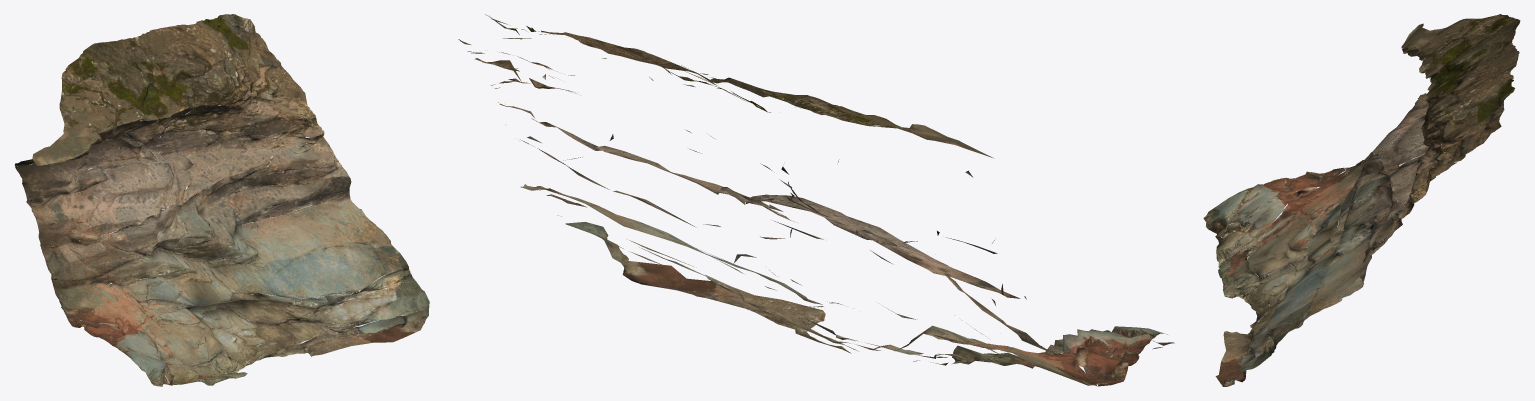
The model's file is rock-face-01.glb.
The picture shows the model from 3 angles, left to right: view 1: azimuth 30°, elevation 25°; view 2: azimuth 150°, elevation 25°; view 3: azimuth 270°, elevation 25°; orthographic projection. The views are drawn at different scales.
Parts seen in each view (by area): view 1: rock_face_01; view 2: rock_face_01; view 3: rock_face_01.
Part boxes in pixels (x1,y1,x2,y2): rock_face_01: (15,14,429,386); rock_face_01: (458,14,1174,386); rock_face_01: (1203,14,1520,386).
Bounding box in the file's own units: 4.95 × 3.57 × 3.83.
Materials: 1 (1 with a texture image).
